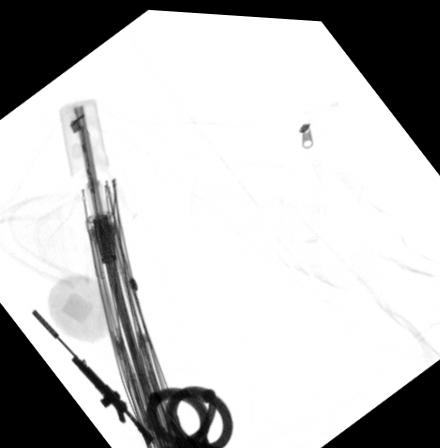Gun: (28, 307, 155, 447)
HandCuffs: (141, 381, 237, 448)
